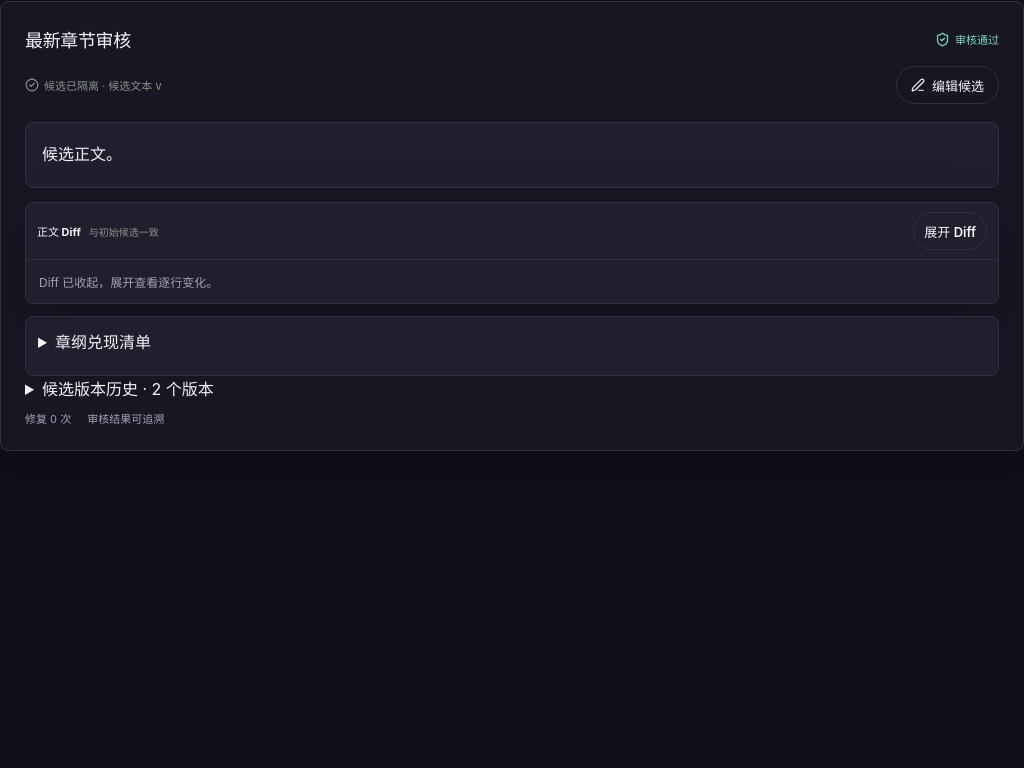
ChapterReview memory review › keeps optional outline checks and historical candidates collapsed by default
The width and height of the screenshot is (1024, 768).
Click the heading "章纲兑现清单".
click(103, 342)  # box [55, 332, 151, 352]
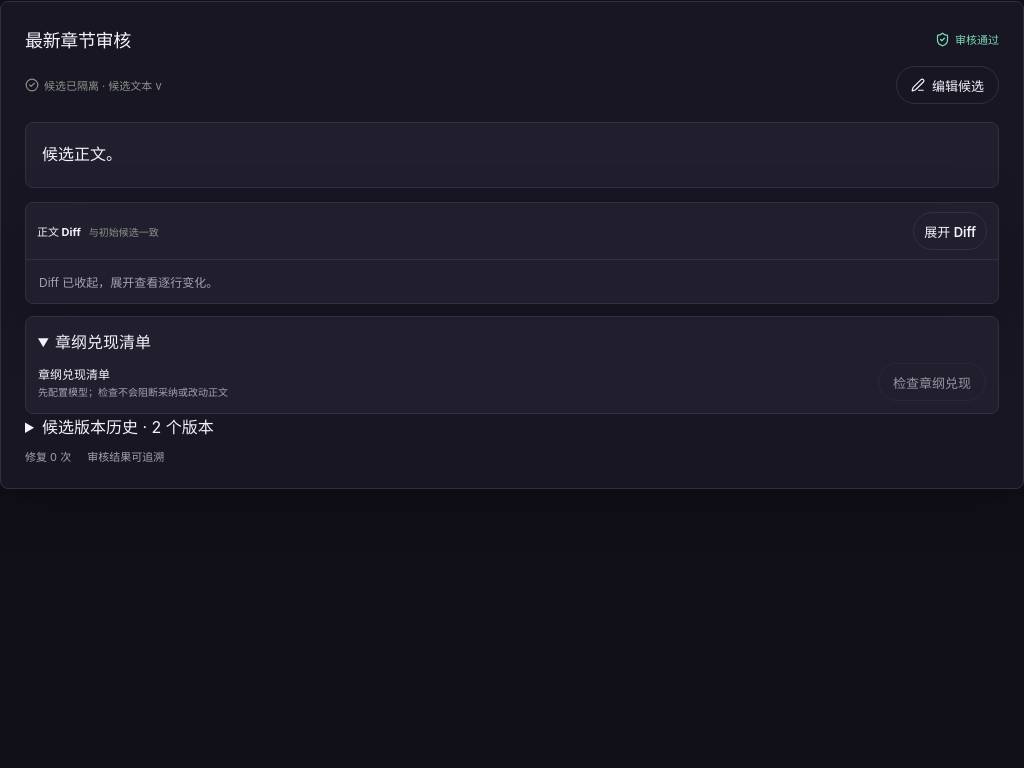
Check: the button "检查章纲兑现" is shown, box [878, 363, 986, 401]
Click the heading "候选版本历史 · 2 个版本".
click(128, 427)  # box [42, 417, 214, 437]
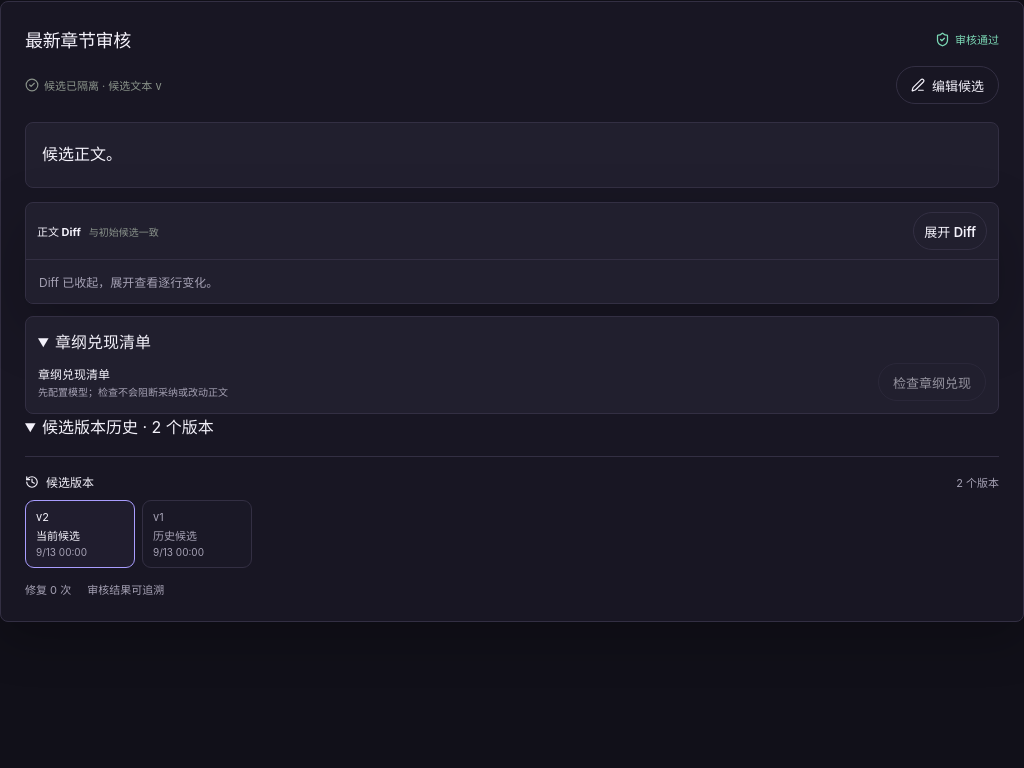
Check: the button "v1 历史候选 9/13 00:00" is shown, box [142, 500, 252, 568]
